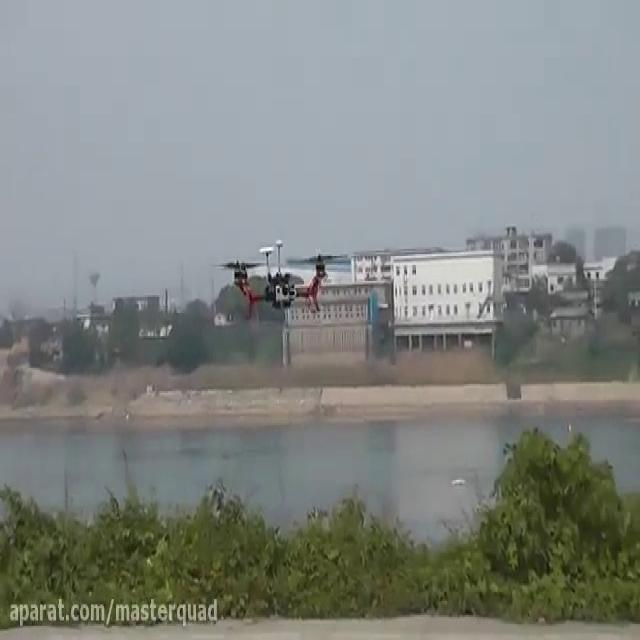drone: (205, 233, 346, 327)
